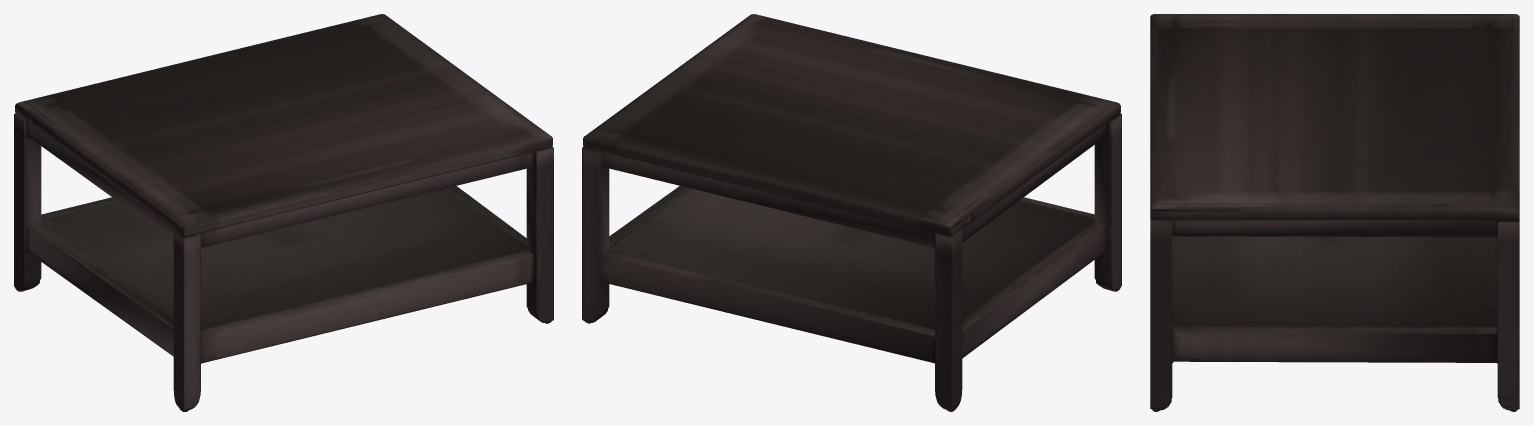
File: Table_Coffee_Dark_Brown_20InchesTall_0222193116_texture.glb
3 renders of one model, left to right at view 1: azimuth 30°, elevation 25°; view 2: azimuth 150°, elevation 25°; view 3: azimuth 270°, elevation 25°, orthographic. The views are drawn at different scales.
Visible parts, largest first — view 1: Mesh_0; view 2: Mesh_0; view 3: Mesh_0.
Part boxes in pixels (bbox=[...]): Mesh_0: bbox=[14, 14, 553, 411]; Mesh_0: bbox=[582, 14, 1121, 411]; Mesh_0: bbox=[1150, 14, 1519, 411].
Size of the model in its own units: 40.93 by 20 by 32.49.
1 material, 1 textured.
